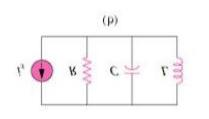Capacitor: (119, 57, 143, 79)
